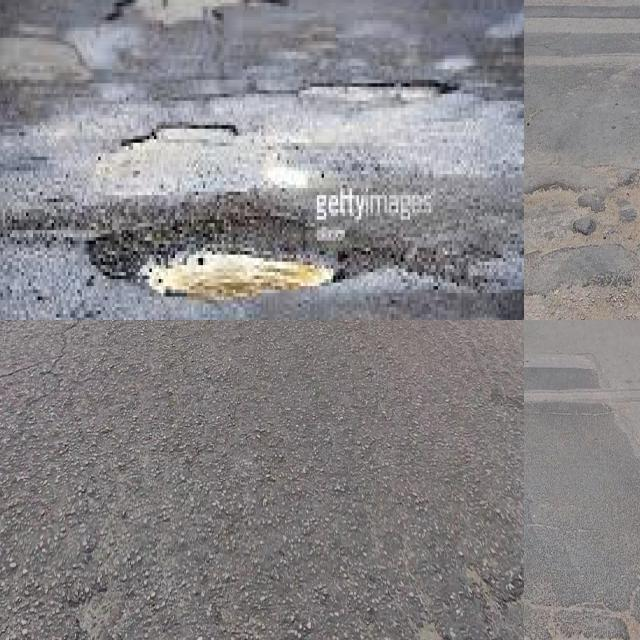Pothole: (84, 220, 389, 300), (571, 165, 640, 260), (110, 0, 284, 27), (524, 181, 584, 257), (124, 122, 238, 146), (301, 80, 454, 97)
